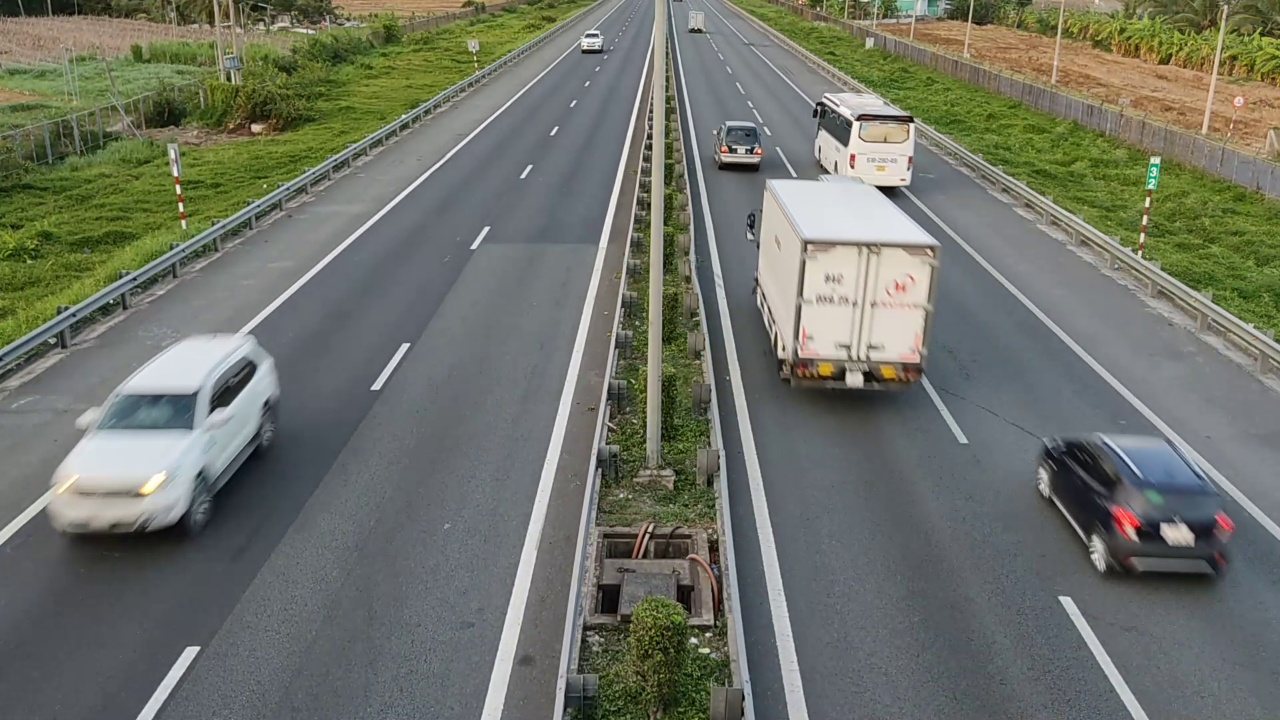bus: (810, 88, 918, 194)
car: (45, 331, 282, 540), (1035, 430, 1237, 581), (712, 120, 764, 170), (581, 29, 604, 53)
truck: (745, 173, 943, 393)
